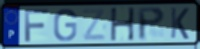F: (23, 8, 50, 43)
G: (52, 8, 78, 43)
H: (109, 7, 136, 43)
K: (169, 7, 191, 41)
P: (137, 6, 167, 42)
Z: (81, 8, 108, 42)
